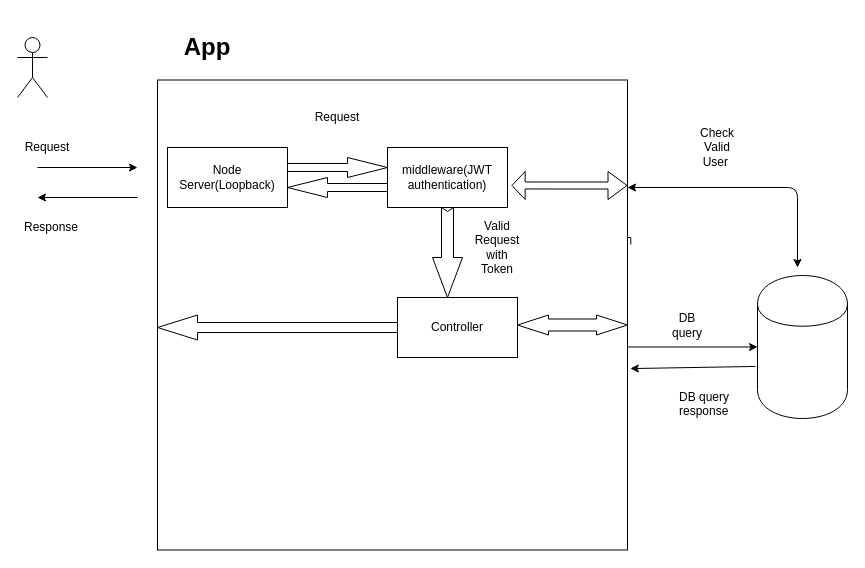
Image size: 865x568. Some labels were removed from this diagram. Here are the shapes that lost their labels. From the top down, the centre of each, then its label:
At pixel 32 67: "User".
At pixel 802 346: "Database".
